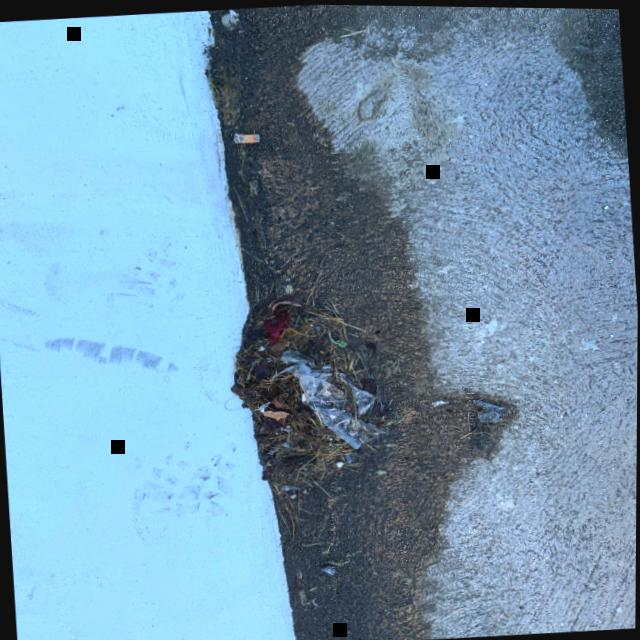Cigarette: (234, 133, 260, 141)
Plastic film: (276, 349, 387, 448)
Unlabeled litter: (263, 309, 292, 345), (302, 391, 306, 400)
